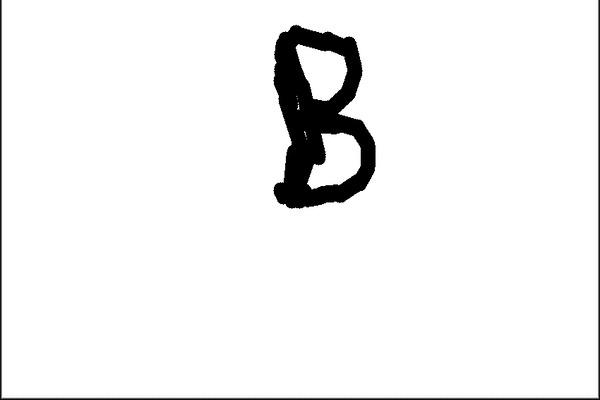B: (260, 17, 379, 214)
